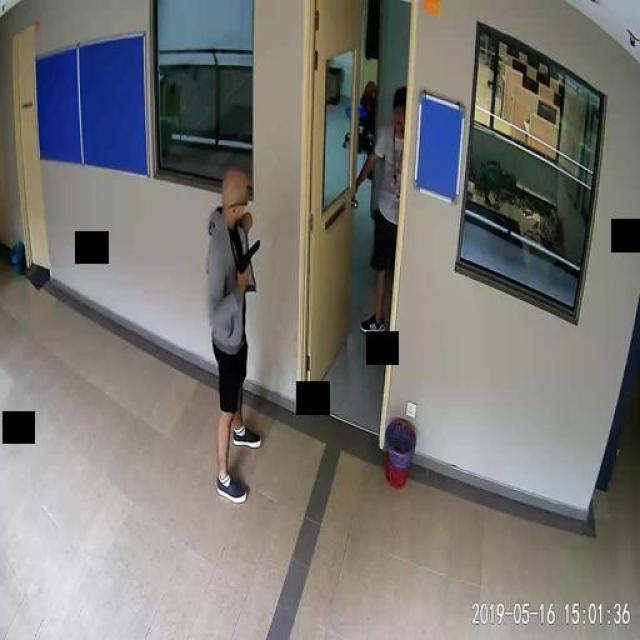gun: (238, 238, 260, 280)
